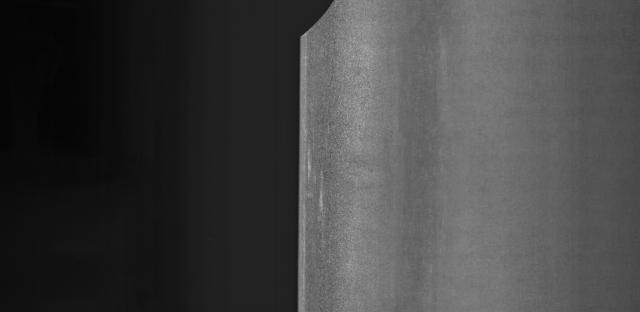crescent_gap: (285, 0, 351, 42)
